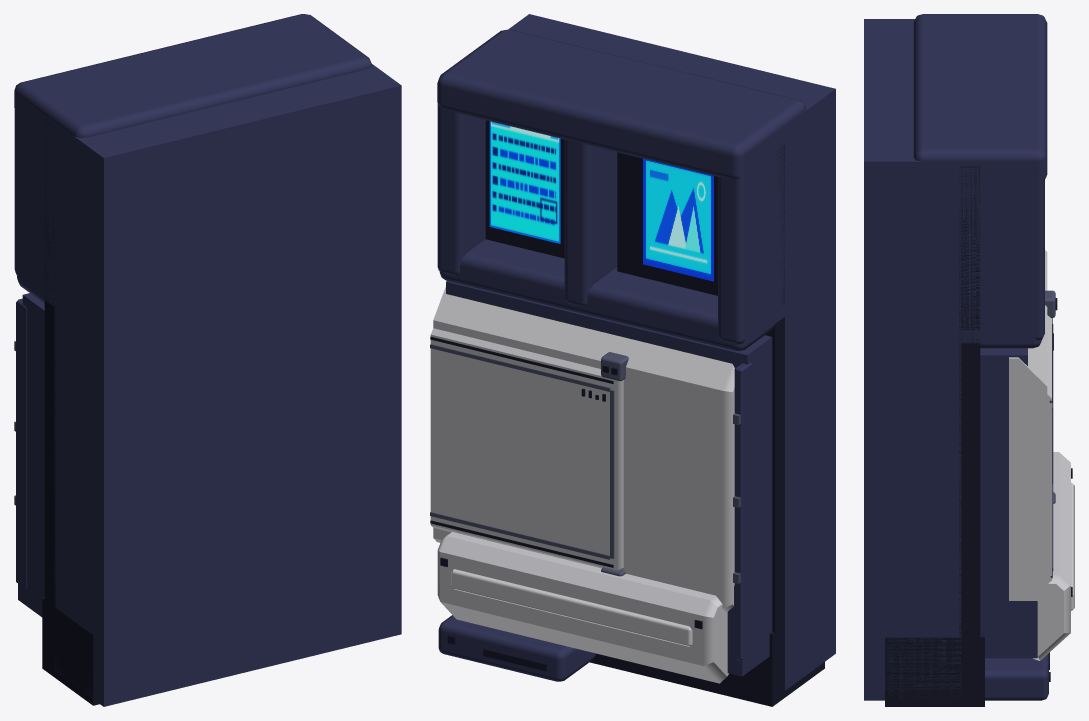
Rendered from hull.bay.plate_large.window.none.plate.w1.414.s1.k-1.25.t-0.95_0.42_1.3_1.85_0.7071.glb.
The picture shows the model from 3 angles, left to right: view 1: azimuth 30°, elevation 25°; view 2: azimuth 150°, elevation 25°; view 3: azimuth 270°, elevation 25°; orthographic projection. The views are drawn at different scales.
Visible parts, largest first — view 1: hull.bay.plate_large.window.none.plate.w1.414.s1.k-1.25.t-0.; view 2: hull.bay.plate_large.window.none.plate.w1.414.s1.k-1.25.t-0.; view 3: hull.bay.plate_large.window.none.plate.w1.414.s1.k-1.25.t-0..
Part boxes in pixels (x1,y1,x2,y2): hull.bay.plate_large.window.none.plate.w1.414.s1.k-1.25.t-0.: [14, 14, 401, 706]; hull.bay.plate_large.window.none.plate.w1.414.s1.k-1.25.t-0.: [430, 14, 835, 706]; hull.bay.plate_large.window.none.plate.w1.414.s1.k-1.25.t-0.: [864, 14, 1074, 706].
Bounding box in the file's own units: 1.41 × 2.56 × 0.8831.
8 materials, 2 textured.
